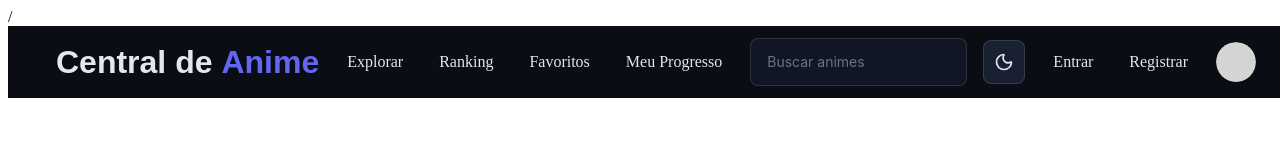
it: Header accessibility e tema › informa falha de persistência de tema sem impedir a troca visual
Click the button named "Ativar tema claro".
click(1004, 62)  # box left=983, top=40, right=1025, bottom=84
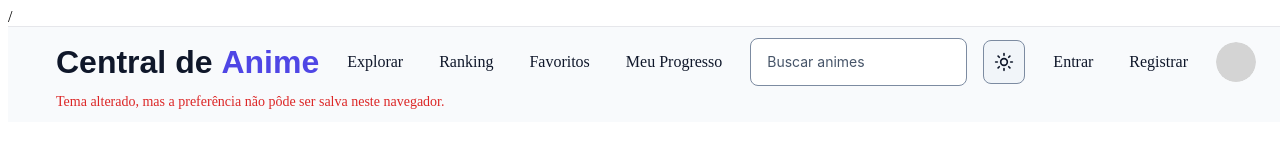
Expected: the button named "Ativar tema escuro" is shown, left=983, top=40, right=1025, bottom=84
Expected: the message reads "Tema alterado, mas a preferência não pôde ser salva neste navegador.", left=56, top=94, right=444, bottom=109
